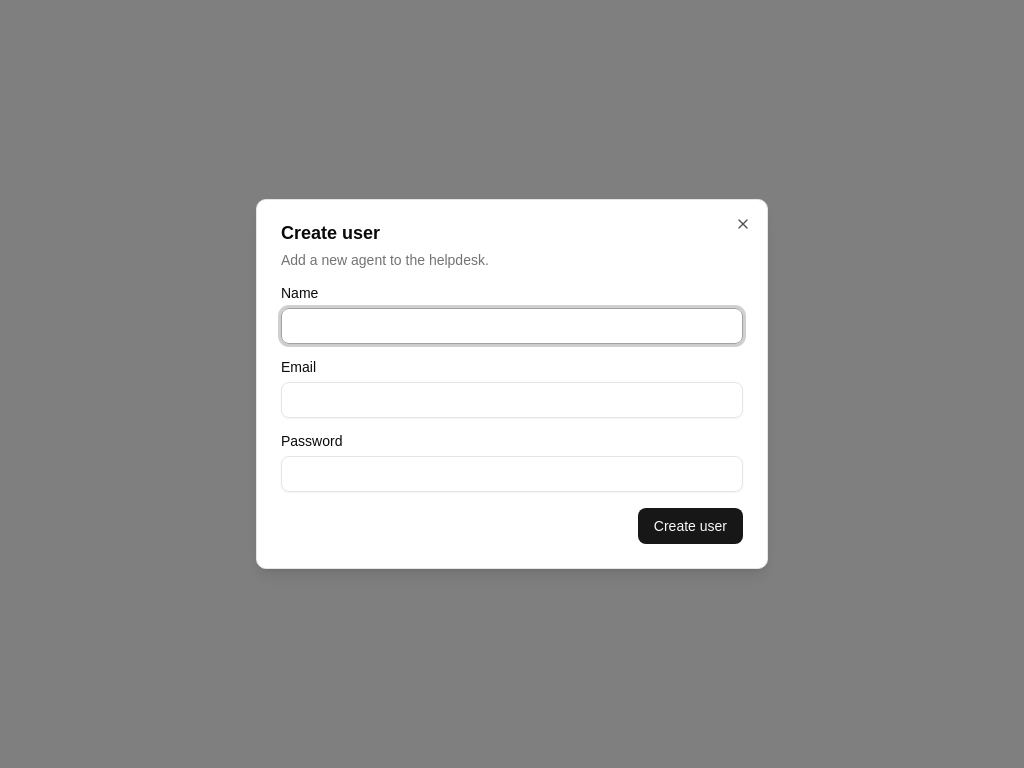
Test: UserFormDialog (create mode) › shows validation errors for invalid input
Click the button "Create user".
click(690, 526)  # box [638,508,743,544]
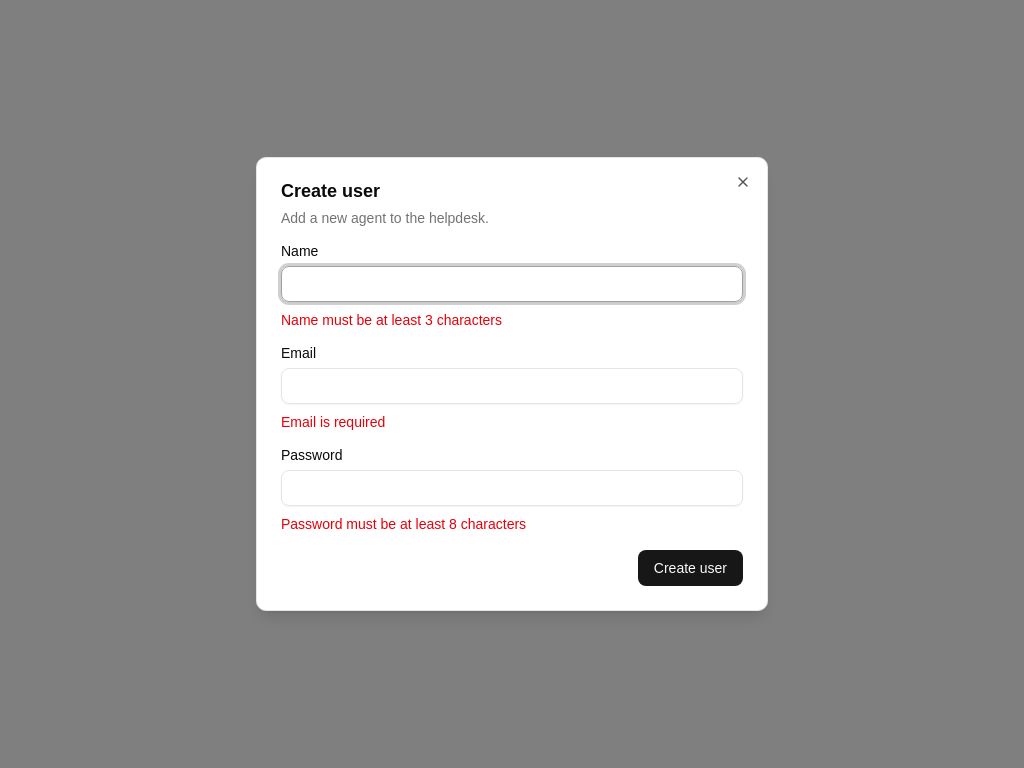
Expected: the text "Name must be at least 3 characters" is shown, [281,312,502,328]
Expected: the text "Email is required" is shown, [281,414,385,430]
Expected: the text "Password must be at least 8 characters" is shown, [281,516,526,532]
